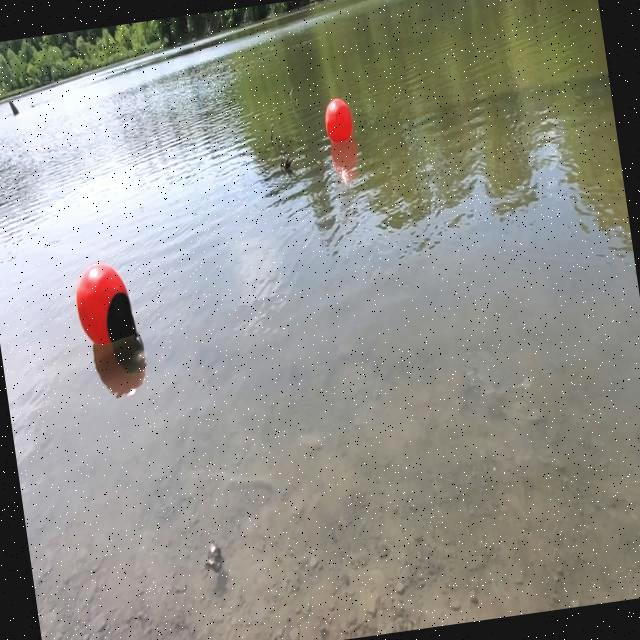buoy: (71, 256, 137, 350), (322, 96, 357, 148)
